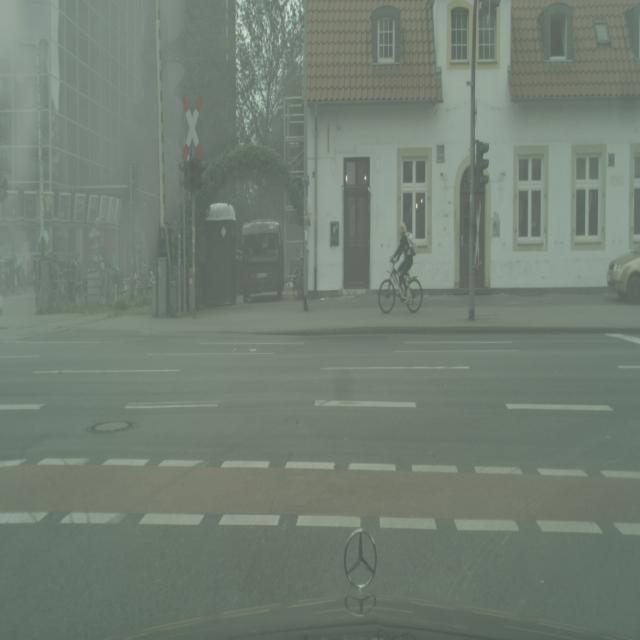bicycle: (242, 219, 284, 303)
car: (378, 256, 422, 312)
person: (391, 222, 417, 299)
truck: (606, 249, 640, 304)
